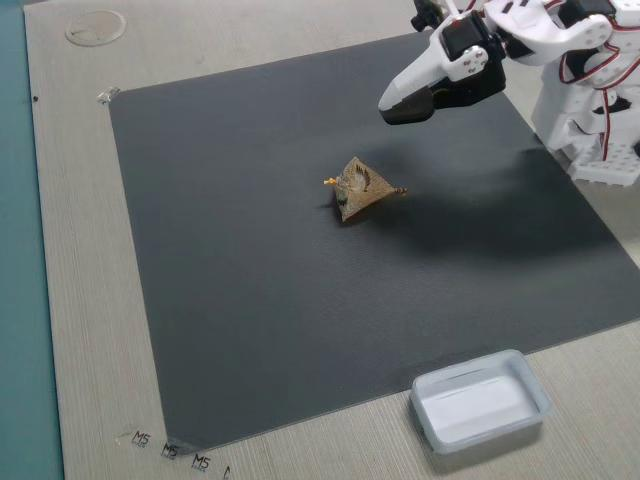objects: (367, 13, 514, 134)
